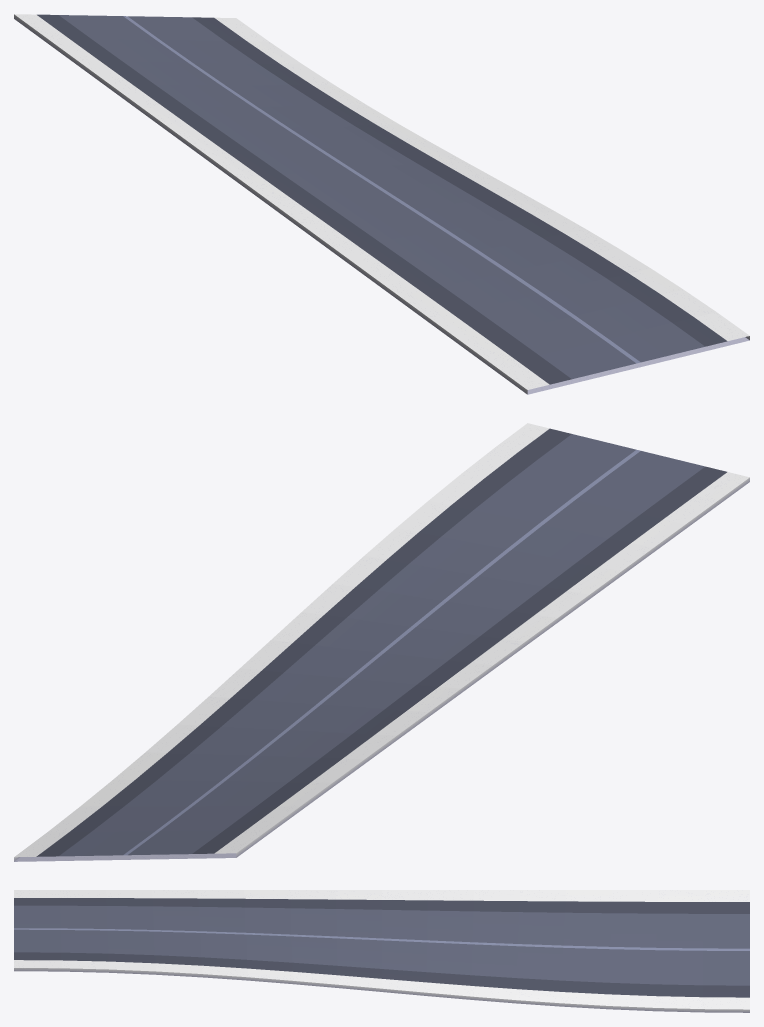
File: road-Straight-Flat-HalfBankedRight-Down1-Center-Size4.glb
The picture shows the model from 3 angles, top to bottom: view 1: azimuth 30°, elevation 25°; view 2: azimuth 150°, elevation 25°; view 3: azimuth 270°, elevation 25°; orthographic projection. The views are drawn at different scales.
Parts seen in each view (by area): view 1: road-Straight-Flat-HalfBankedRight-Down1-Center-Size4; view 2: road-Straight-Flat-HalfBankedRight-Down1-Center-Size4; view 3: road-Straight-Flat-HalfBankedRight-Down1-Center-Size4.
Part boxes in pixels (box(x1,y1,x2,y2)): road-Straight-Flat-HalfBankedRight-Down1-Center-Size4: box(14, 14, 749, 394); road-Straight-Flat-HalfBankedRight-Down1-Center-Size4: box(14, 423, 749, 861); road-Straight-Flat-HalfBankedRight-Down1-Center-Size4: box(14, 890, 749, 1012).
Bounding box in the file's own units: 1 × 0.27 × 4.
Materials: 1 (1 with a texture image).
